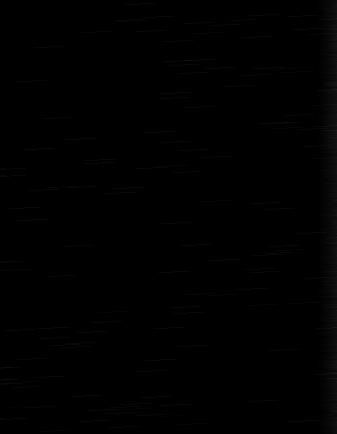Airbag: (0, 0, 336, 434), (329, 0, 337, 434)
